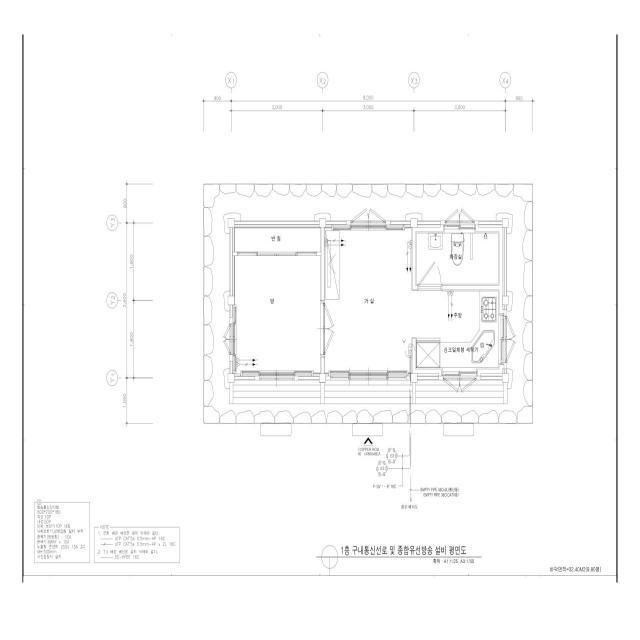space_bedroom: (235, 256, 321, 374)
space_kitchen: (412, 290, 501, 372)
space_living_room: (325, 225, 412, 376)
space_other: (234, 227, 320, 252)
space_toilet: (416, 229, 499, 285)
